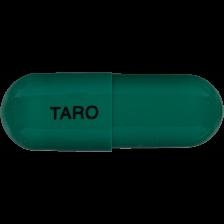61786-872: (0, 0, 224, 224)
